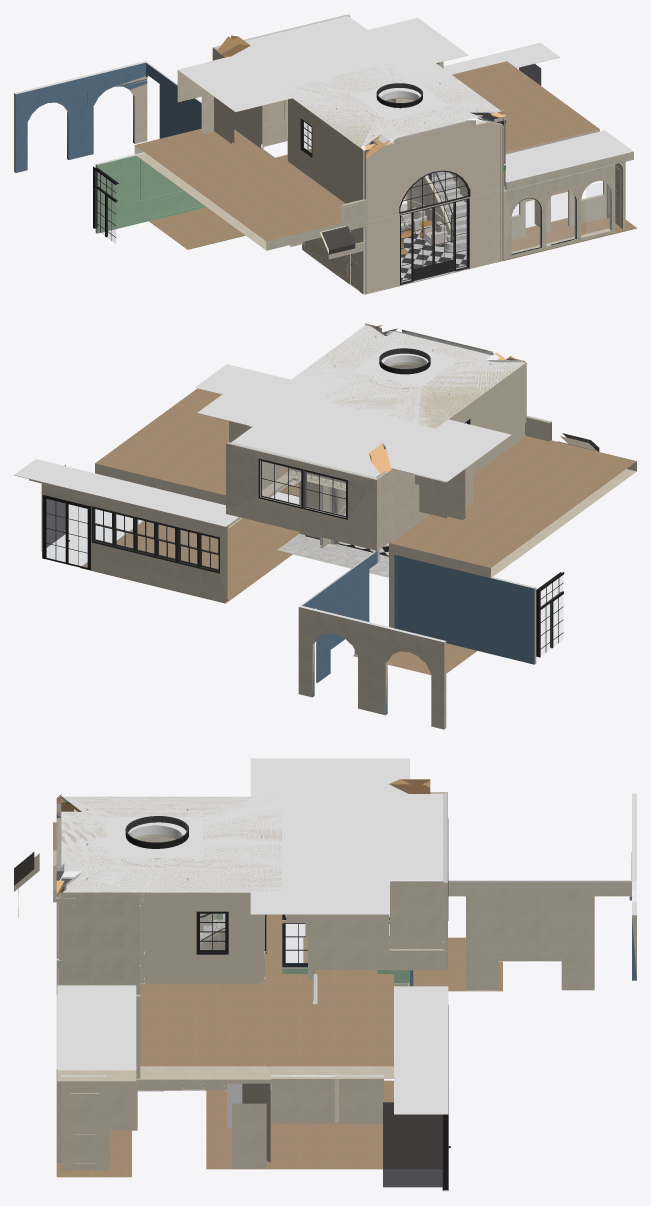
The model's file is entry-5804ccbfc836.glb.
3 renders of one model, top to bottom at view 1: azimuth 30°, elevation 25°; view 2: azimuth 150°, elevation 25°; view 3: azimuth 270°, elevation 25°, orthographic. The views are drawn at different scales.
Visible parts, largest first — view 1: entry-look-2575515a05775d9e, entry-look-9d91b47435c6fb33, entry-9d91b47435c6fb33, entry-4edf3a9420c06709, entry-look-969b861f9850351e, entry-698abdfdc6fb970d, entry-look-b19b106fc304963c, entry-746250f96522f643, entry-look-dbd60ee5c3733ed6, entry-9ca48b730e5de4b2, entry-look-c9e78b9ec1bb39cd, entry-785988ccf932ddd5 (+30 smaller); view 2: entry-look-2575515a05775d9e, entry-look-9d91b47435c6fb33, entry-look-b19b106fc304963c, entry-9d91b47435c6fb33, entry-look-969b861f9850351e, entry-look-245f595ae2832e16, entry-look-3b0077416469e01b, entry-look-bfb9fa537cd11d1d, entry-e8793759323e04f0, entry-look-9a0e9ee9b2a451d7, entry-746250f96522f643, entry-look-3e6709f91b43c3bf (+16 smaller); view 3: entry-look-2575515a05775d9e, entry-look-9d91b47435c6fb33, entry-9d91b47435c6fb33, entry-look-3e6709f91b43c3bf, entry-look-3b0077416469e01b, entry-c51ecd664a3b22a3, entry-look-dbd60ee5c3733ed6, entry-look-9a0e9ee9b2a451d7, entry-e8793759323e04f0, entry-62353aa10fc57f23, entry-look-cbd4bf73d9724a66, entry-look-55ff1dfd7b659ec1 (+23 smaller).
Part boxes in pixels (box(x1,y1,x2,y2)): entry-look-2575515a05775d9e: box(134, 61, 599, 250); entry-look-9d91b47435c6fb33: box(178, 16, 468, 112); entry-9d91b47435c6fb33: box(281, 54, 500, 149); entry-4edf3a9420c06709: box(365, 120, 503, 221); entry-look-969b861f9850351e: box(14, 61, 147, 172); entry-698abdfdc6fb970d: box(400, 198, 469, 285); entry-look-b19b106fc304963c: box(95, 152, 202, 233); entry-746250f96522f643: box(287, 98, 361, 203); entry-look-dbd60ee5c3733ed6: box(505, 130, 633, 190); entry-9ca48b730e5de4b2: box(365, 189, 503, 293); entry-look-c9e78b9ec1bb39cd: box(503, 164, 615, 260); entry-785988ccf932ddd5: box(366, 118, 503, 220); entry-look-2575515a05775d9e: box(95, 388, 636, 578); entry-look-9d91b47435c6fb33: box(197, 371, 510, 481); entry-look-b19b106fc304963c: box(397, 555, 536, 664); entry-9d91b47435c6fb33: box(277, 325, 525, 427); entry-look-969b861f9850351e: box(298, 605, 446, 729); entry-look-245f595ae2832e16: box(226, 442, 377, 551); entry-look-3b0077416469e01b: box(80, 518, 476, 674); entry-look-bfb9fa537cd11d1d: box(42, 482, 227, 602); entry-e8793759323e04f0: box(307, 326, 525, 428); entry-look-9a0e9ee9b2a451d7: box(14, 459, 238, 526); entry-746250f96522f643: box(449, 363, 524, 474); entry-look-3e6709f91b43c3bf: box(302, 551, 377, 682); entry-look-2575515a05775d9e: box(53, 822, 393, 1078); entry-look-9d91b47435c6fb33: box(250, 758, 442, 914); entry-9d91b47435c6fb33: box(61, 796, 282, 892); entry-look-3e6709f91b43c3bf: box(448, 880, 631, 989); entry-look-3b0077416469e01b: box(206, 937, 502, 1169); entry-c51ecd664a3b22a3: box(145, 892, 264, 983); entry-look-dbd60ee5c3733ed6: box(57, 985, 136, 1081); entry-look-9a0e9ee9b2a451d7: box(394, 986, 448, 1114); entry-e8793759323e04f0: box(58, 794, 282, 892); entry-62353aa10fc57f23: box(61, 892, 140, 994); entry-look-cbd4bf73d9724a66: box(383, 1102, 443, 1187); entry-look-55ff1dfd7b659ec1: box(448, 880, 631, 990).
Size of the model in its own units: 21.06 by 7.01 by 18.
58 materials, 11 textured.
